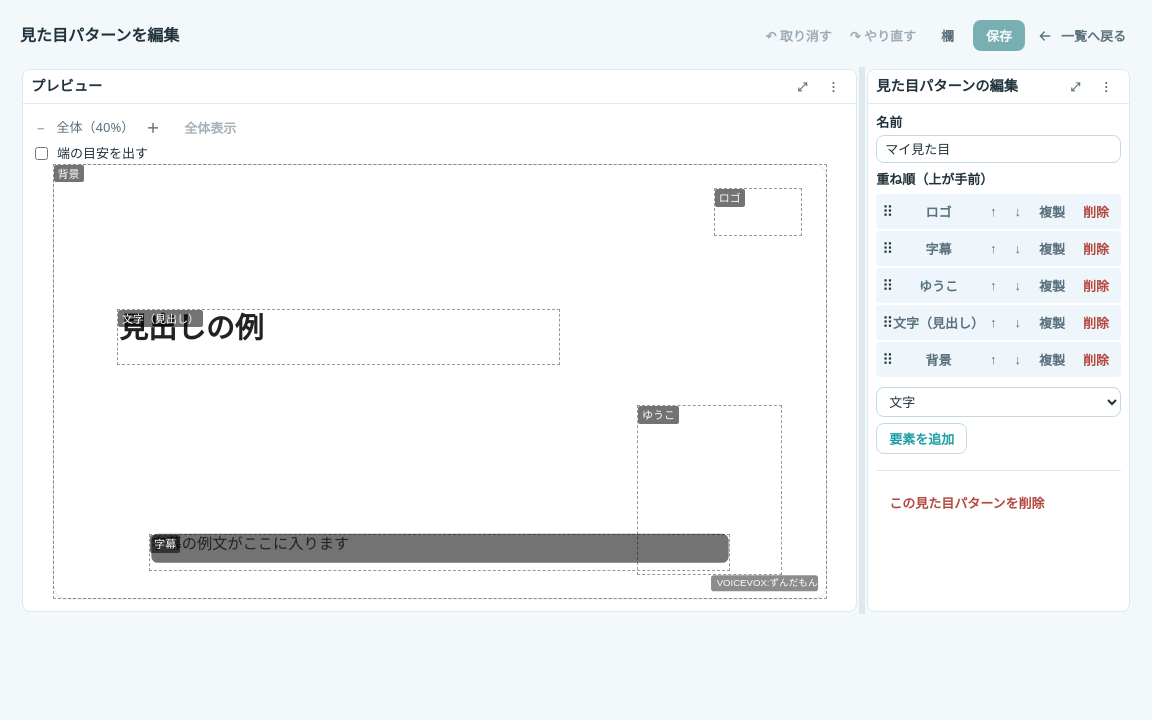
LooksEditScreen 下書きの取り消し/やり直し（#547 P2-3） › フォーカス中の連続入力は1回の取り消しでまとめて戻る（1文字ずつ戻らない）
Replace the text in the field showing "マイ見た目" with "あ" at x=999, y=149, box left=876, top=135, right=1121, bottom=163
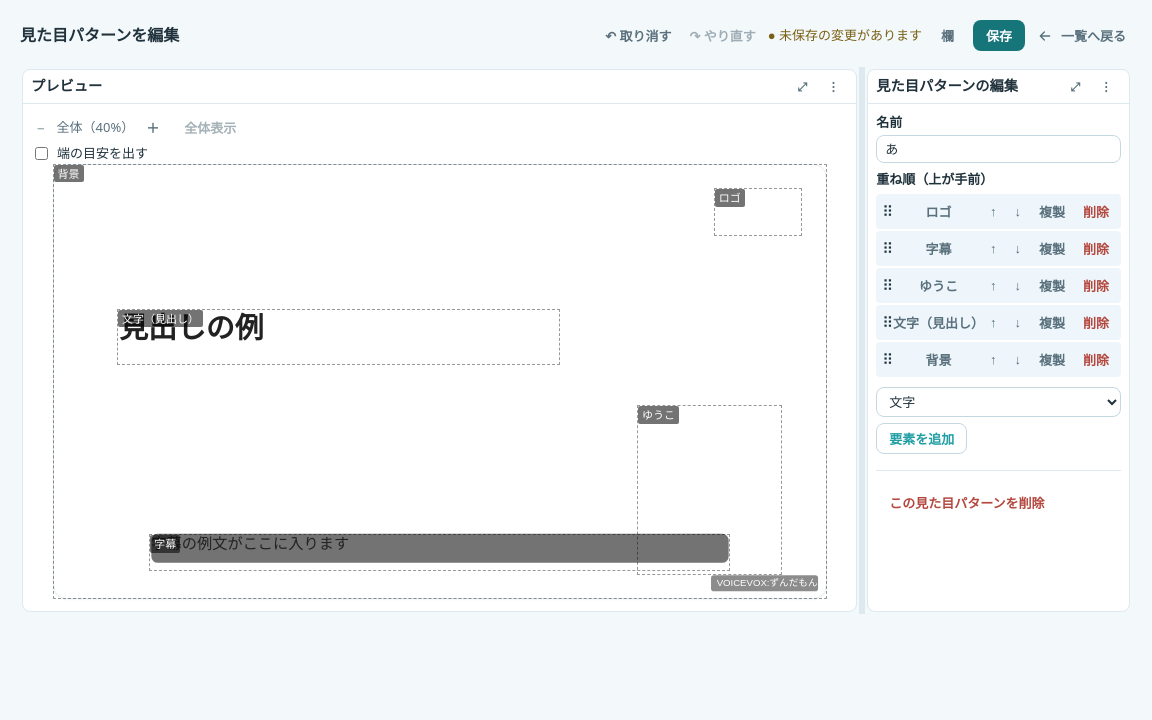
Replace the text in the field showing "マイ見た目" with "あい" at x=999, y=149, box left=876, top=135, right=1121, bottom=163
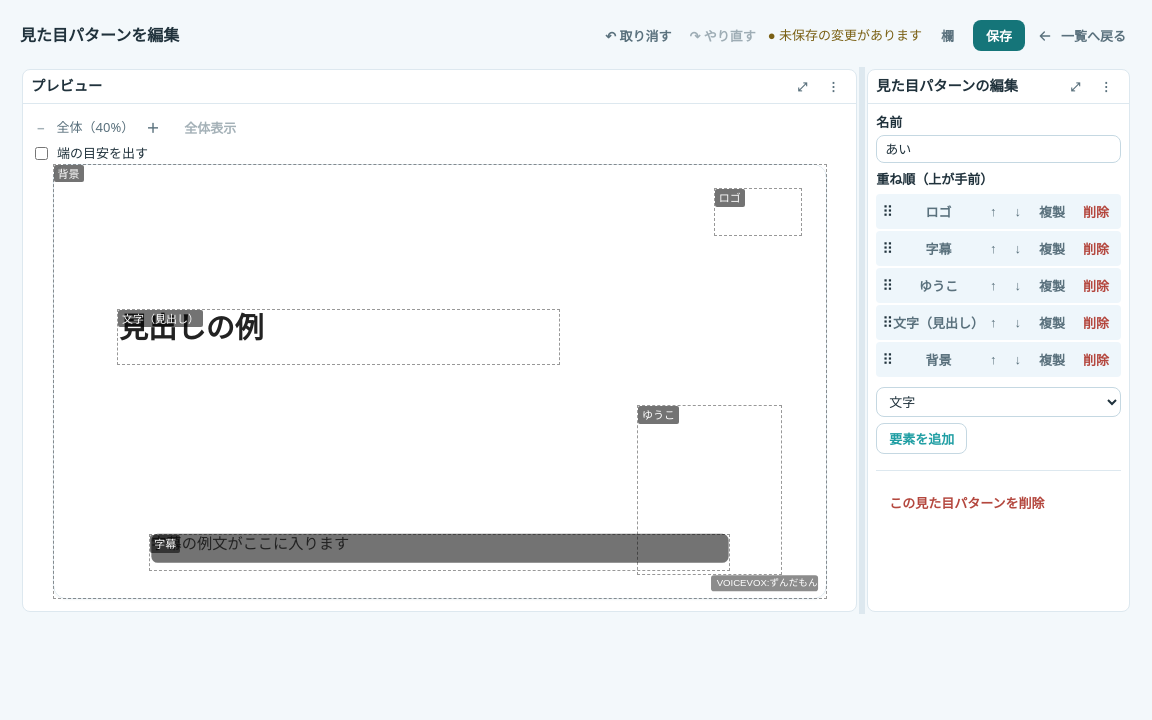
Replace the text in the field showing "マイ見た目" with "あいう" at x=999, y=149, box left=876, top=135, right=1121, bottom=163
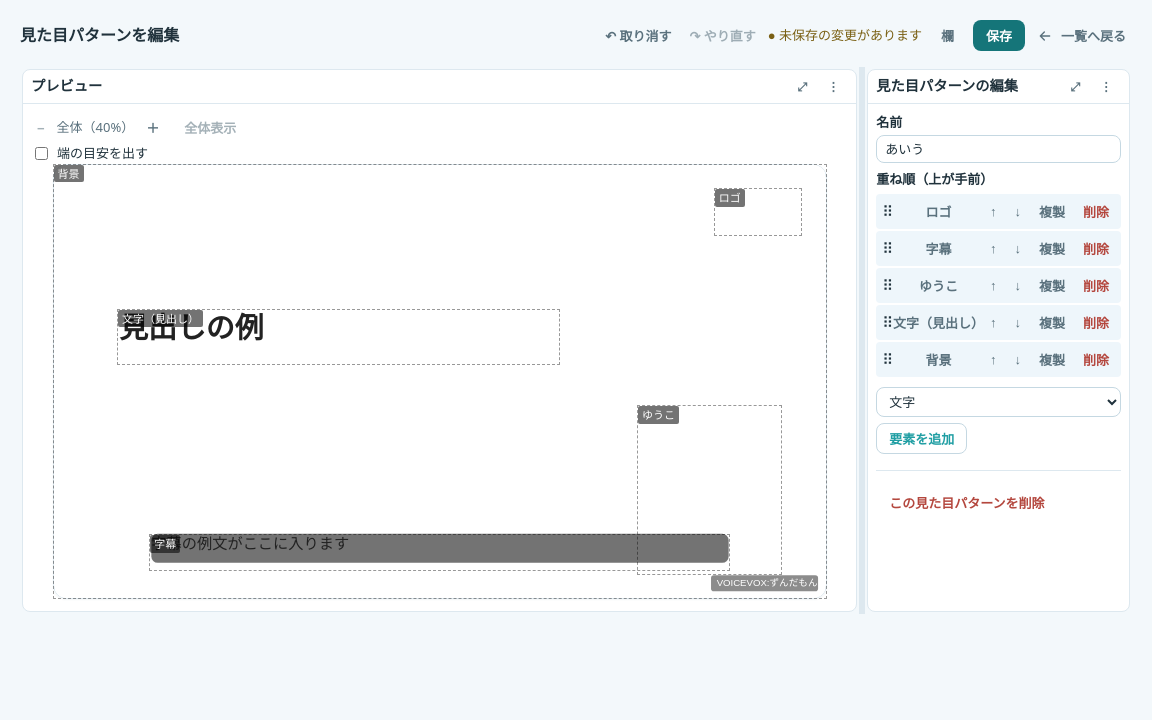
Click the button labelled "↶ 取り消す" at x=638, y=36, box left=599, top=20, right=678, bottom=51
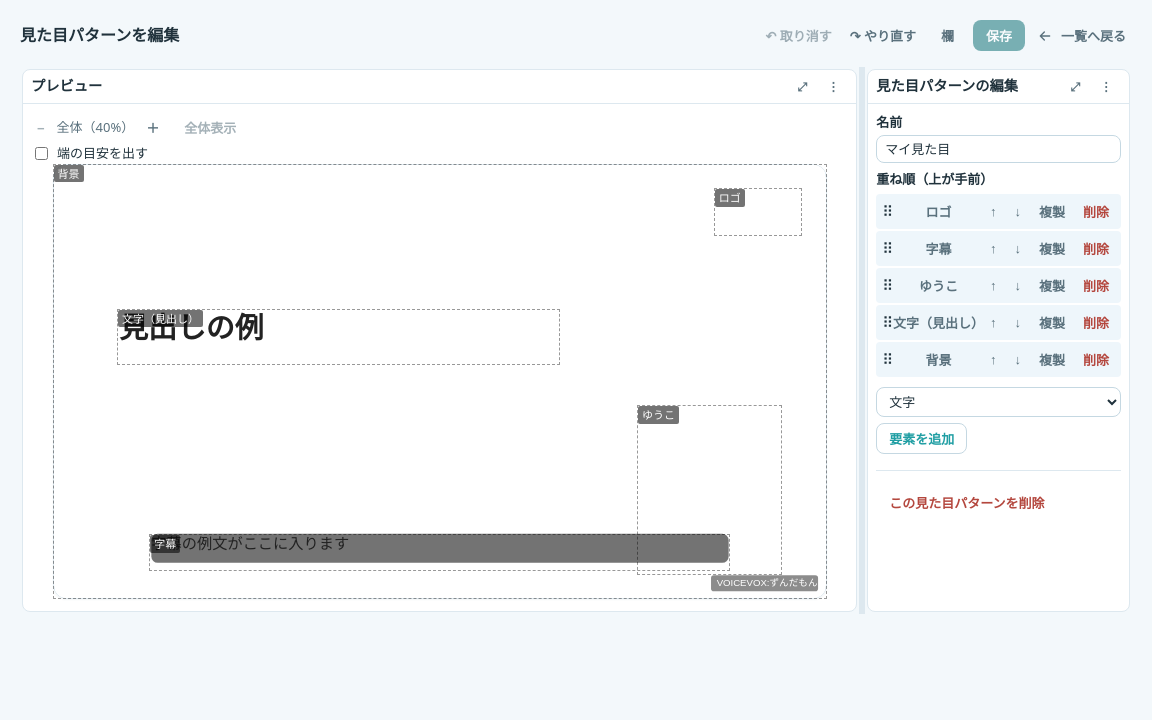
Now the field showing "マイ見た目" is shown, box left=876, top=135, right=1121, bottom=163
Now the button labelled "↶ 取り消す" is disabled, box left=759, top=20, right=838, bottom=51
